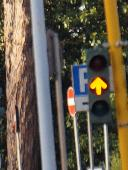yellow_light: (87, 51, 113, 123)
